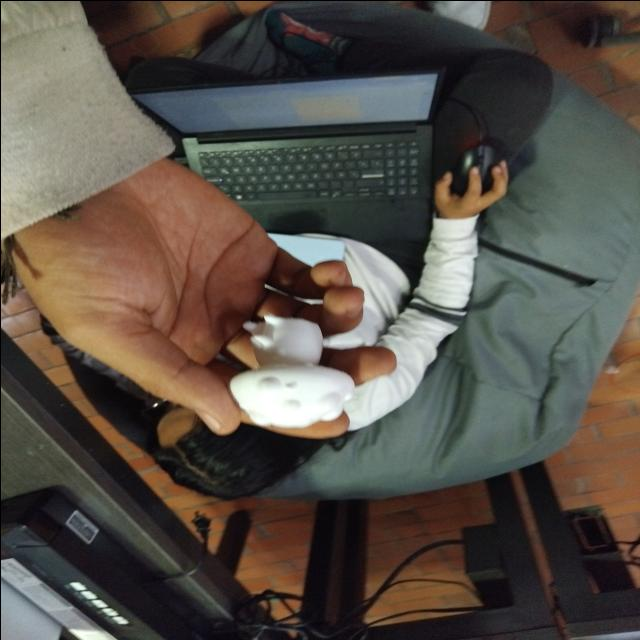Hongo: (230, 310, 362, 426)
